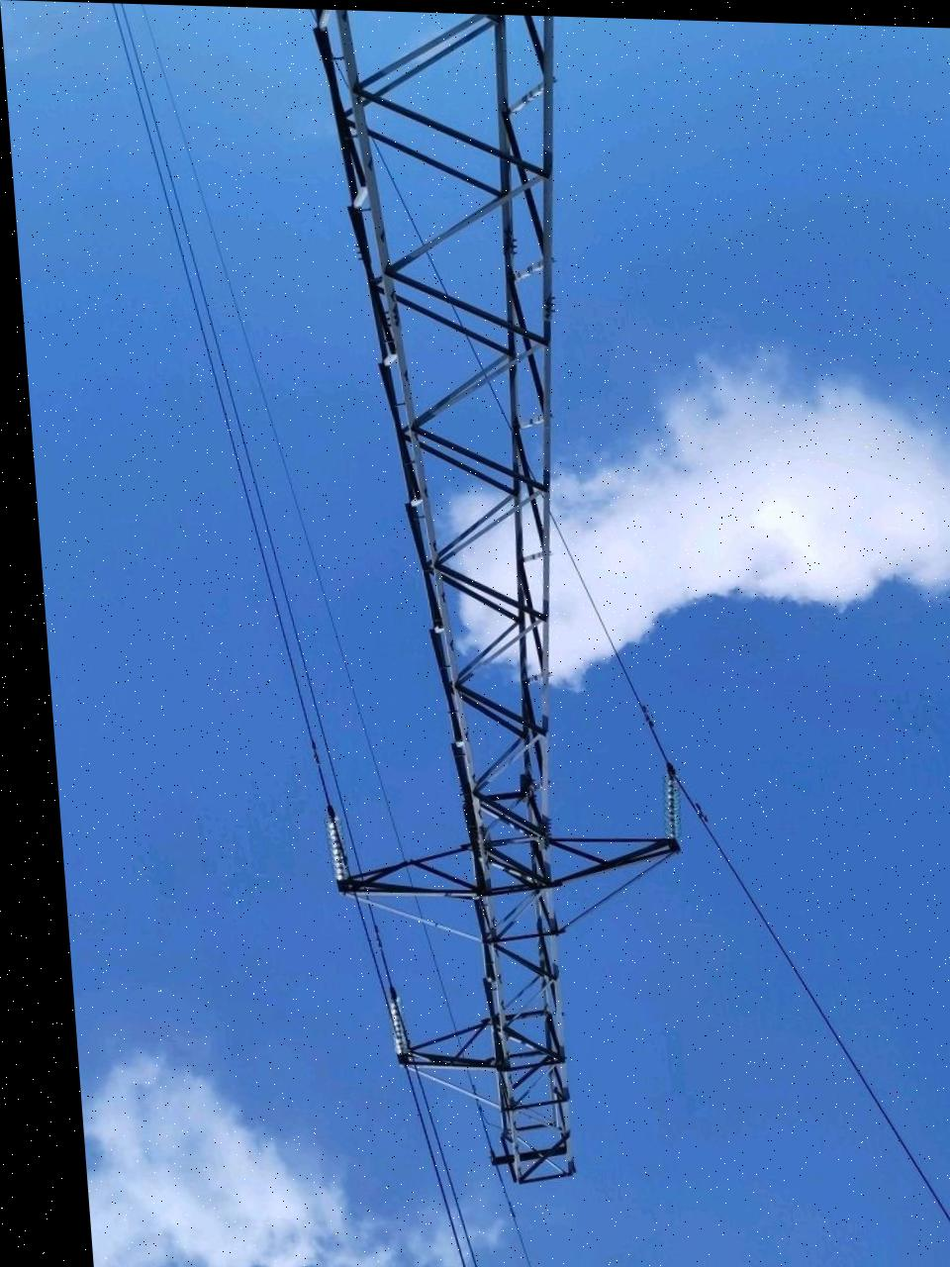tower: (256, 8, 718, 1201)
